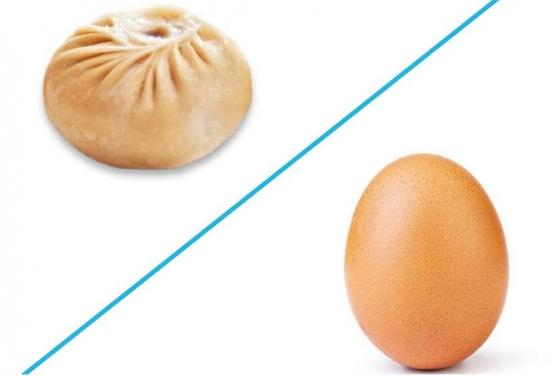egg: (350, 153, 505, 370)
